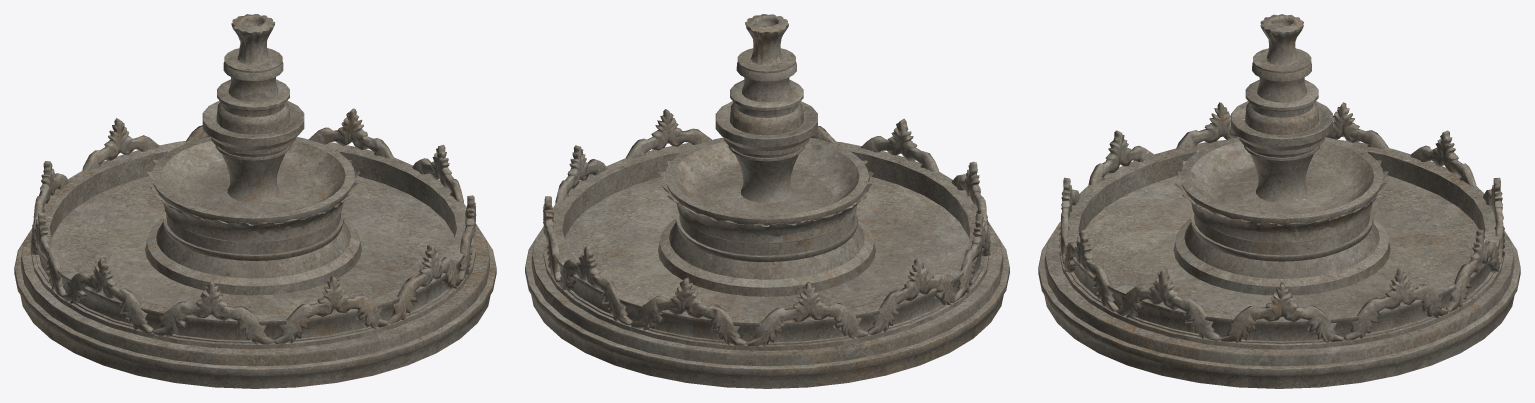
File: SM_fountain.fbx
3 renders of one model, left to right at view 1: azimuth 30°, elevation 25°; view 2: azimuth 150°, elevation 25°; view 3: azimuth 270°, elevation 25°, orthographic.
Visible parts, largest first — view 1: SM_fountain_LOD0; view 2: SM_fountain_LOD0; view 3: SM_fountain_LOD0.
Part boxes in pixels (x1,y1,x2,y2): SM_fountain_LOD0: (14, 14, 496, 388); SM_fountain_LOD0: (525, 14, 1009, 388); SM_fountain_LOD0: (1038, 14, 1520, 388).
Bounding box in the file's own units: 735 × 735 × 450.
